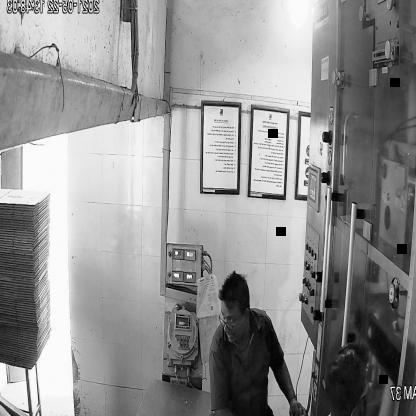goggles: (218, 307, 249, 331)
